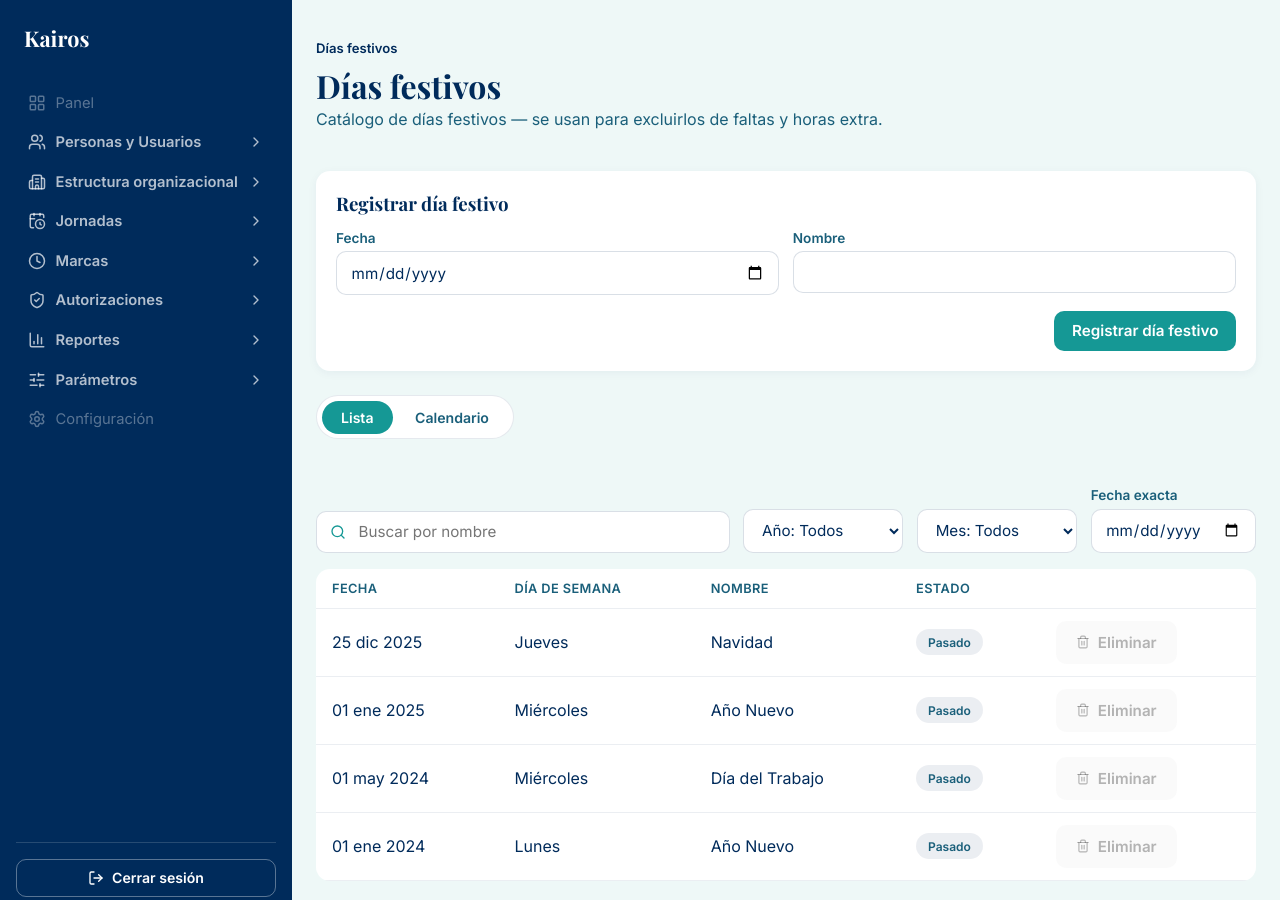
DiasFestivosPage › filtra por año, mes y fecha exacta combinando con AND
The image size is (1280, 900).
expect the number of rows is 5: met, box [316,569,1256,608]; [316,608,1256,676]; [316,676,1256,744]; [316,744,1256,812]; [316,812,1256,880]
Select "2024" in the dropdown named "filtrar por año" at (823, 531), box [743,509,903,553]
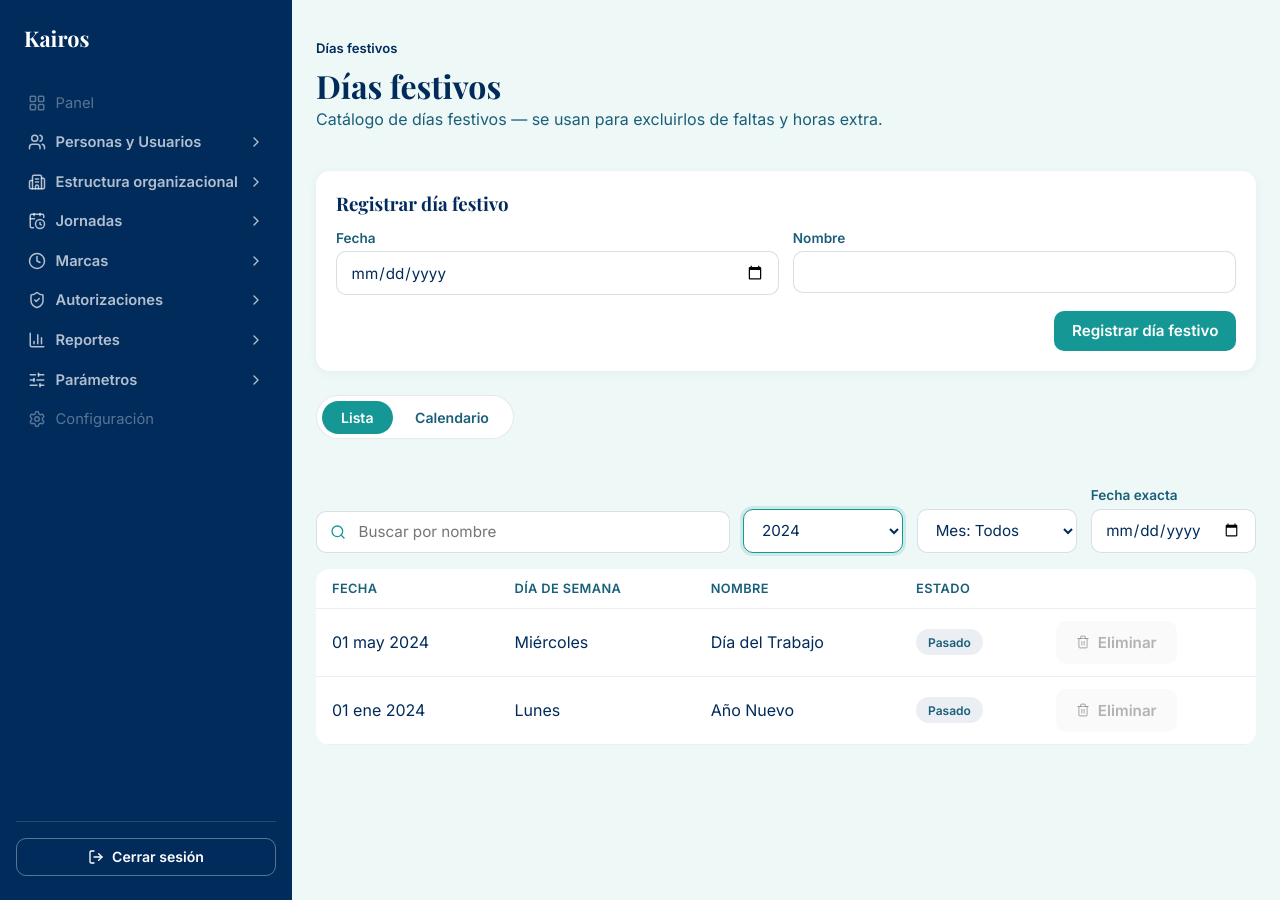
expect the number of rows is 3: met, box [316,569,1256,608]; [316,608,1256,676]; [316,676,1256,744]
Select "Mayo" in the dropdown named "filtrar por mes" at (997, 531), box [917,509,1077,553]
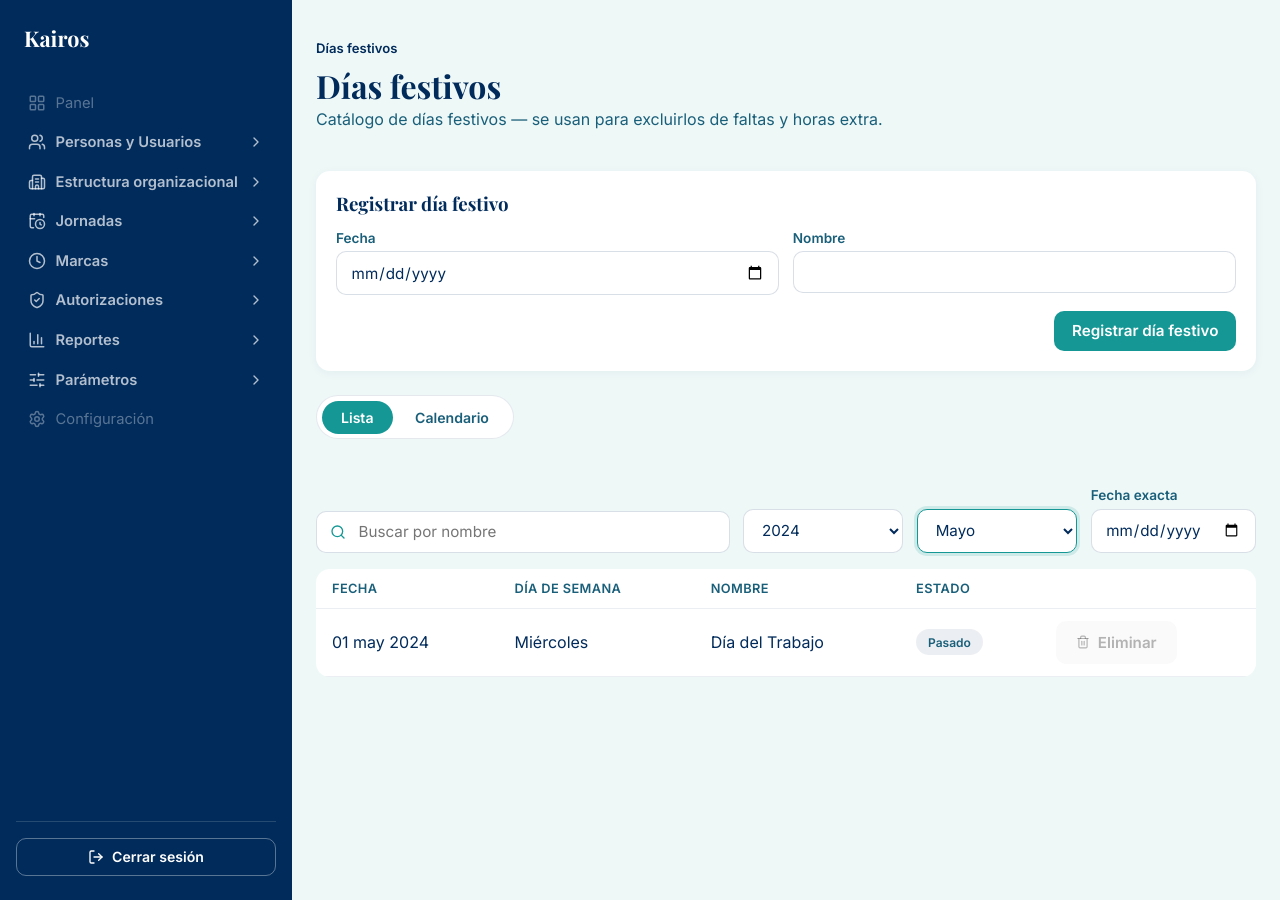
expect the number of rows is 2: met, box [316,569,1256,608]; [316,608,1256,676]
Type "2024-01-01" into the date field labelled "Fecha exacta".
click(1173, 531); type("2024-01-01")  # box [1091,509,1256,553]
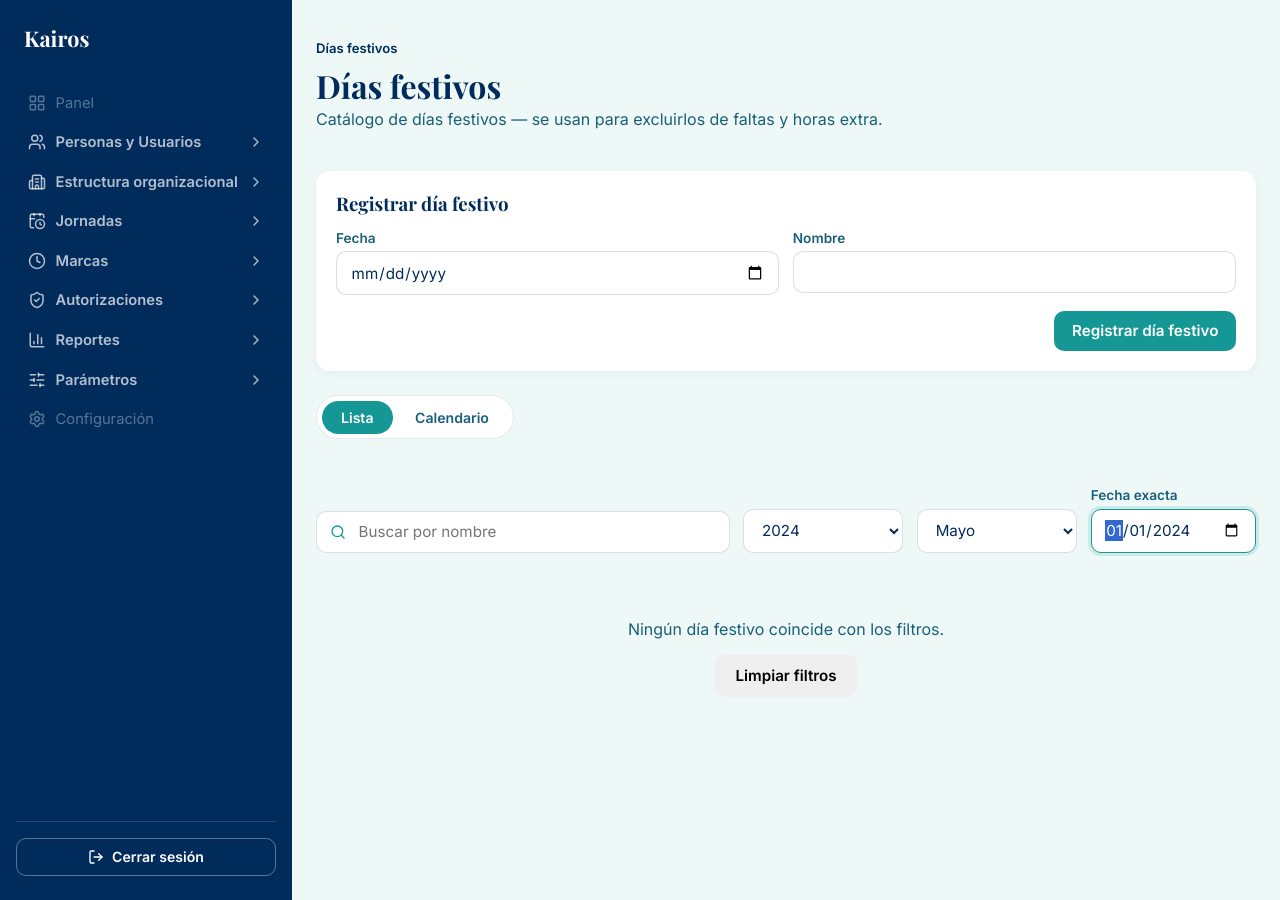
expect the text "Ningún día festivo coincide con los filtros." is shown: met, box [628,617,944,641]
Click the button "Limpiar filtros".
click(786, 676)  # box [716,654,857,697]
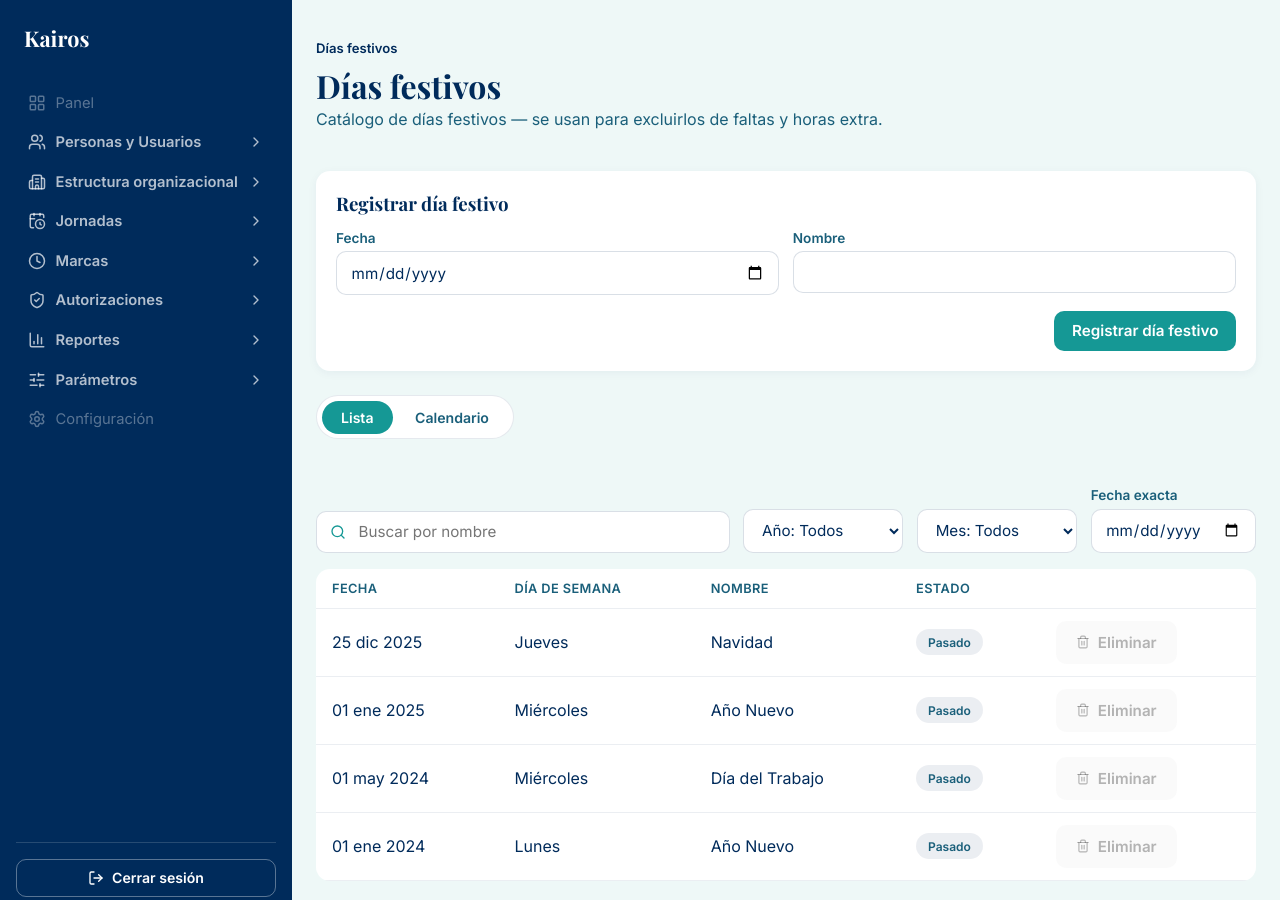
expect the number of rows is 5: met, box [316,569,1256,608]; [316,608,1256,676]; [316,676,1256,744]; [316,744,1256,812]; [316,812,1256,880]
